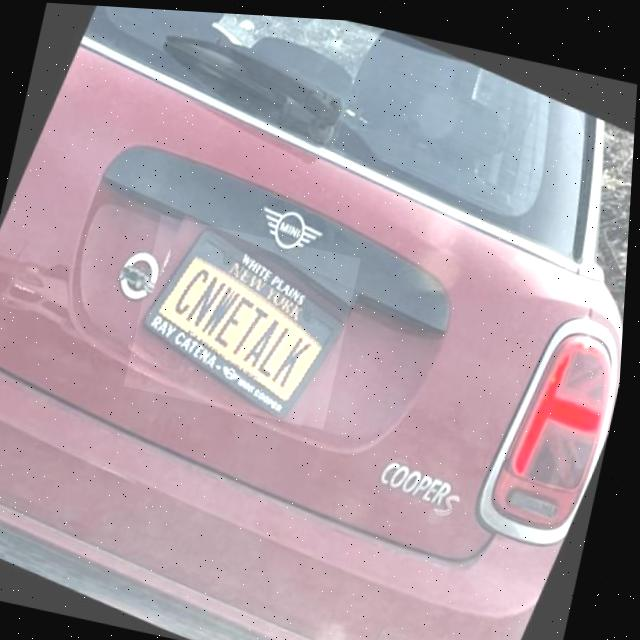LicensePlate: (142, 222, 350, 417)
